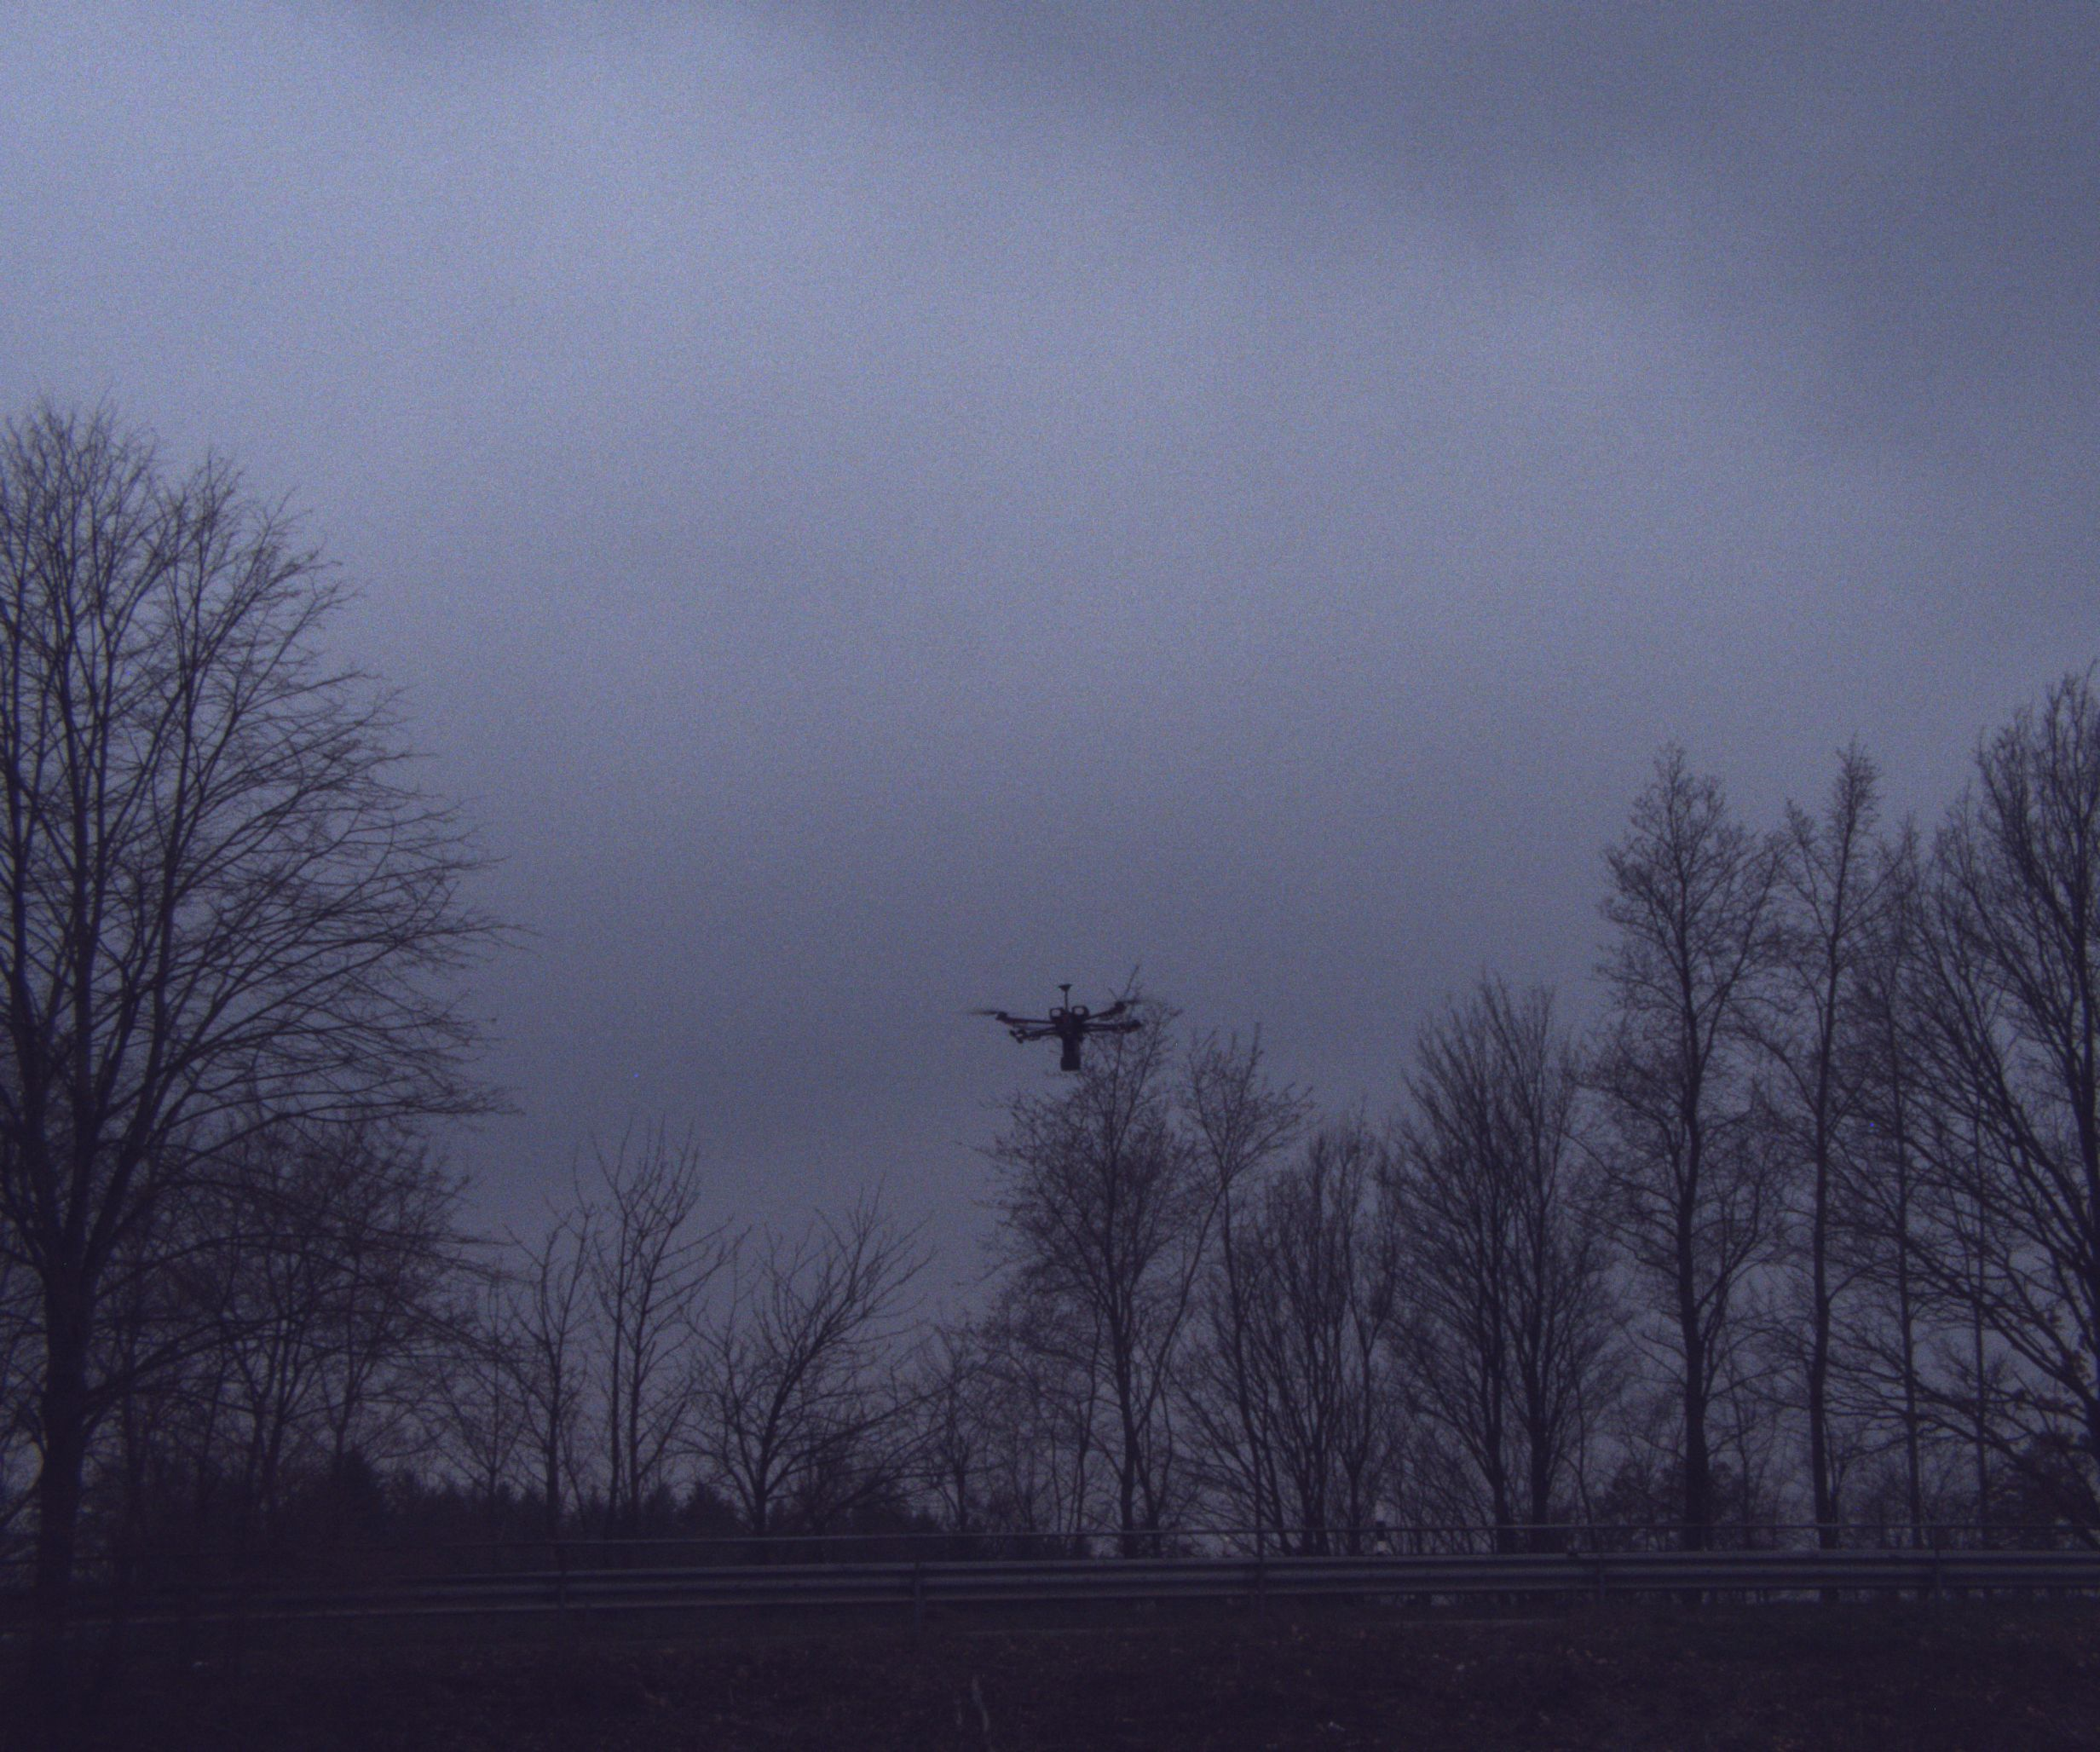Drohne: (940, 927, 1270, 1093)
